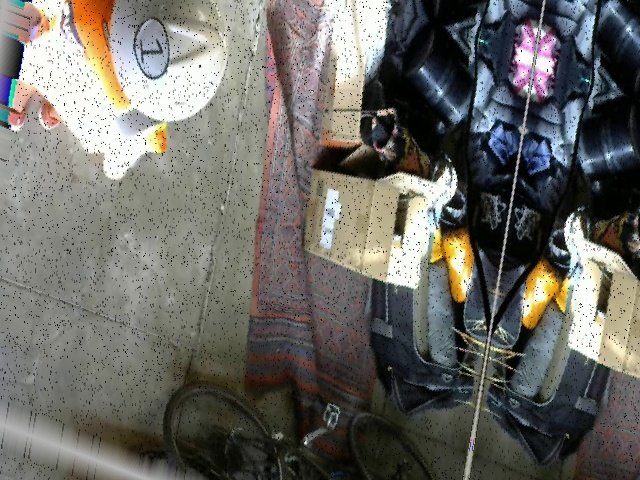one: (127, 12, 173, 86)
